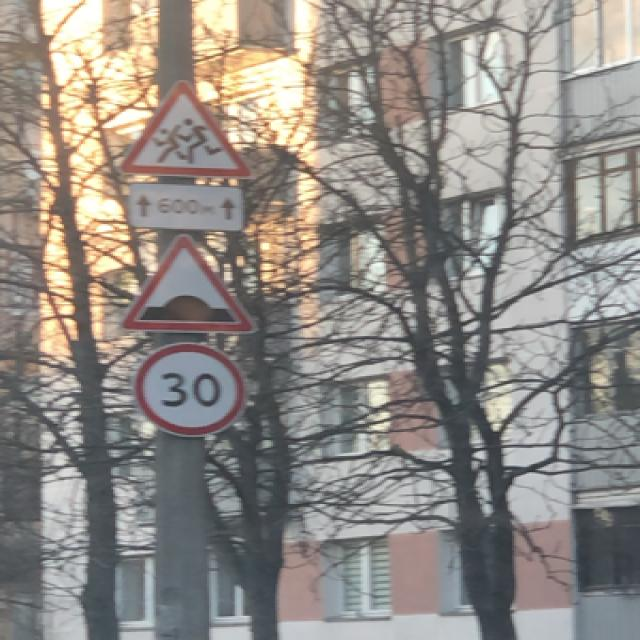speedlimit: (130, 341, 241, 435)
